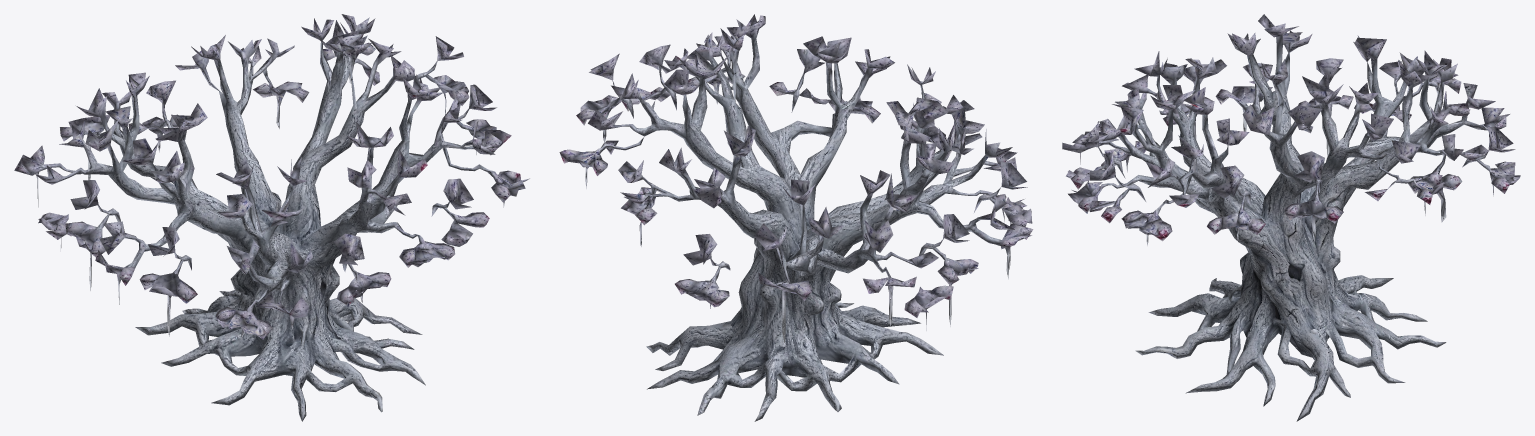
The model's file is tripo_convert_cfffc384-b9cc-4010-9654-83a4d5a5ba3f.fbx.
3 views of the same model, side by side, from view 1: azimuth 30°, elevation 25°; view 2: azimuth 150°, elevation 25°; view 3: azimuth 270°, elevation 25° (orthographic). The views are drawn at different scales.
Parts seen in each view (by area): view 1: tripo_node_cfffc384; view 2: tripo_node_cfffc384; view 3: tripo_node_cfffc384.
Part boxes in pixels (x1,y1,x2,y2): tripo_node_cfffc384: [14, 14, 529, 421]; tripo_node_cfffc384: [559, 14, 1033, 421]; tripo_node_cfffc384: [1062, 14, 1520, 421].
Size of the model in its own units: 0.9902 by 0.7676 by 0.998.
Materials: 1 (1 with a texture image).
